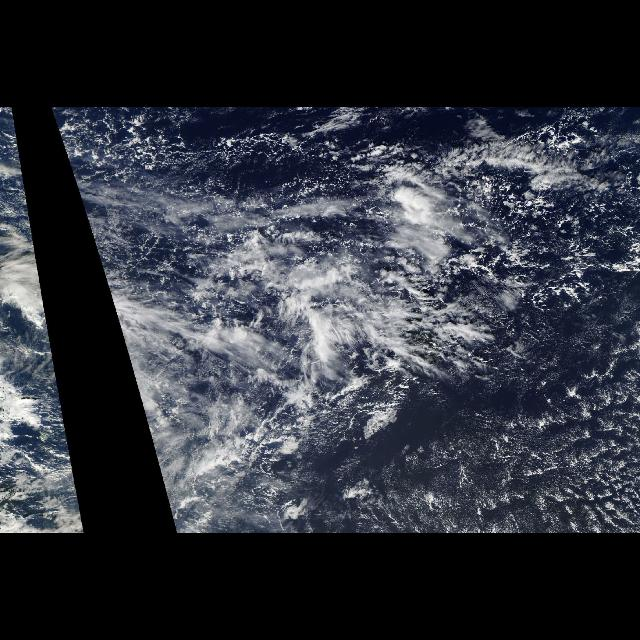Gravel: (91, 121, 608, 182), (425, 386, 637, 532)
Sugar: (386, 361, 640, 534)
